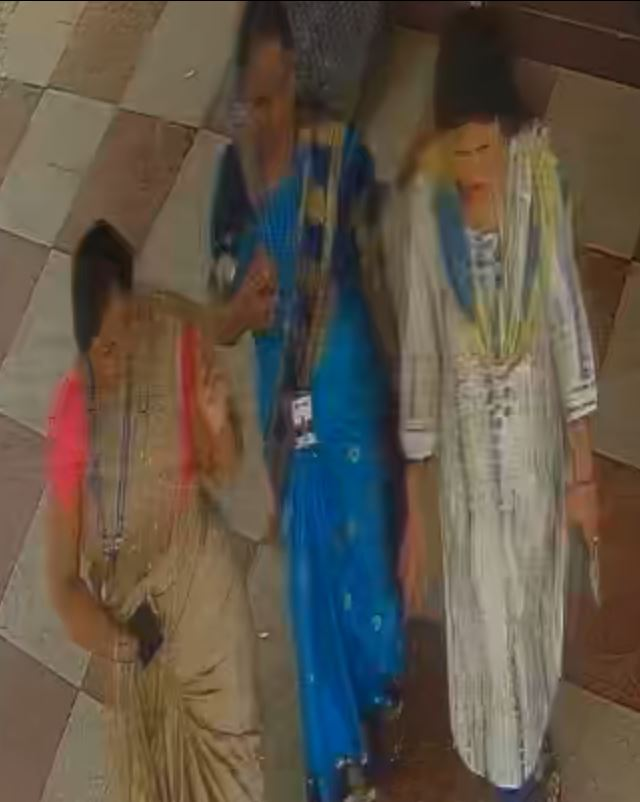not intruder: (200, 3, 405, 802), (401, 17, 598, 802), (36, 216, 276, 802)
